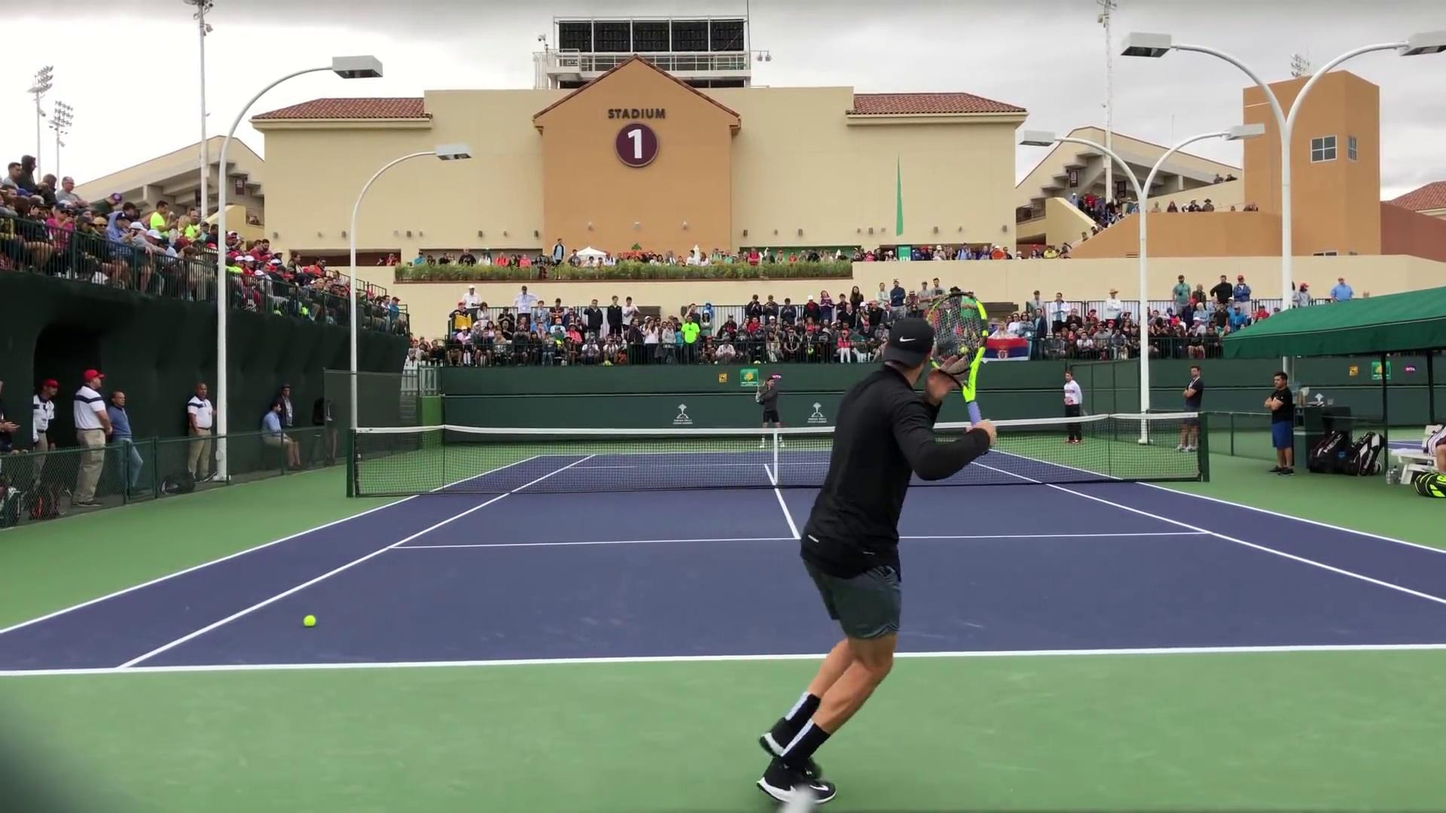ball: (302, 614, 317, 627)
